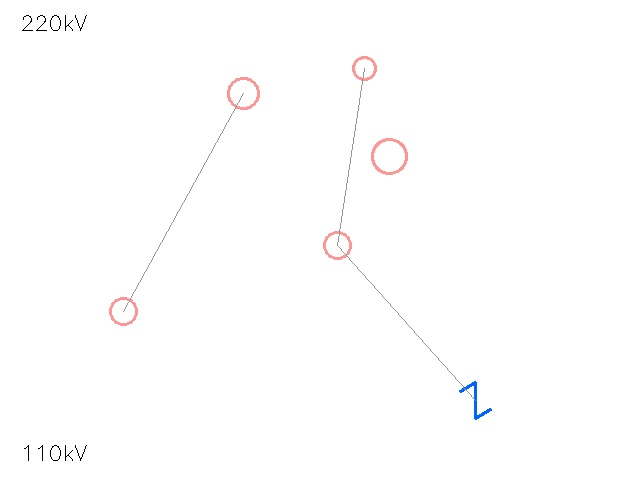circuit_breaker: (457, 382, 493, 418)
current_transformer: (355, 122, 423, 190), (310, 218, 364, 272)
disconnect_switch: (96, 284, 150, 338)
feeder_terminal: (213, 63, 273, 123), (341, 45, 387, 91)
